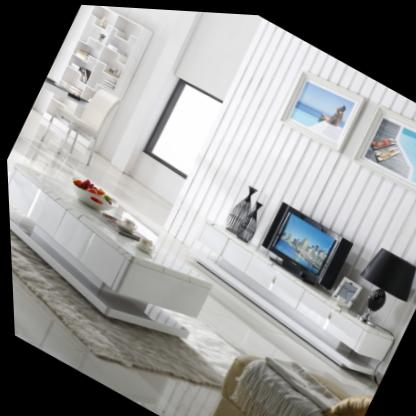Carpet: (8, 230, 235, 386)
Ceramic floor: (9, 271, 219, 416)
TV stand: (175, 215, 402, 383)
